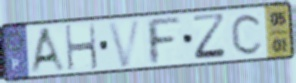A: (28, 25, 69, 74)
C: (229, 11, 265, 57)
F: (143, 16, 183, 67)
H: (63, 22, 100, 73)
V: (105, 17, 145, 70)
Z: (191, 12, 230, 62)
